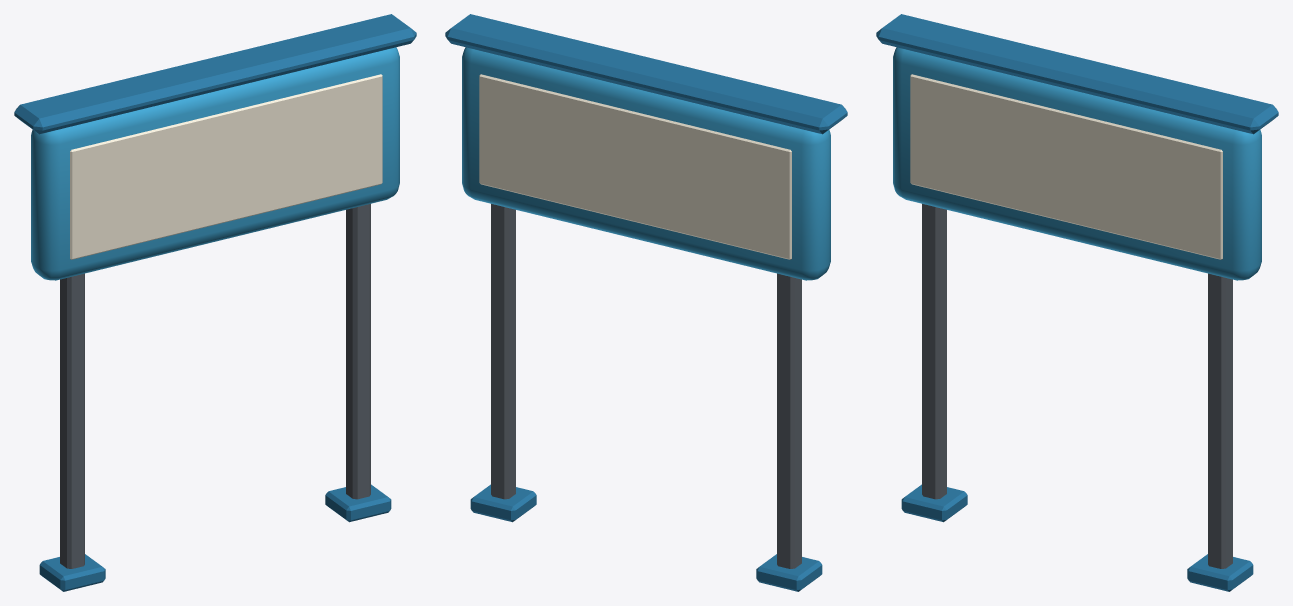
Rendered from station-sign.glb.
3 views of the same model, side by side, from view 1: azimuth 30°, elevation 25°; view 2: azimuth 150°, elevation 25°; view 3: azimuth 330°, elevation 25° (orthographic).
Visible parts, largest first — view 1: station-sign; view 2: station-sign; view 3: station-sign.
Boxes of the visible parts, x1,y1,x2,y2 form: station-sign: [14, 14, 416, 591]; station-sign: [445, 14, 847, 591]; station-sign: [876, 14, 1278, 591].
Size of the model in its own units: 2.55 by 3.04 by 0.3.
